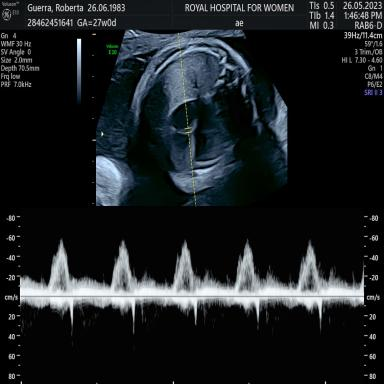Ultrasound-Waves: (26, 215, 362, 383)
